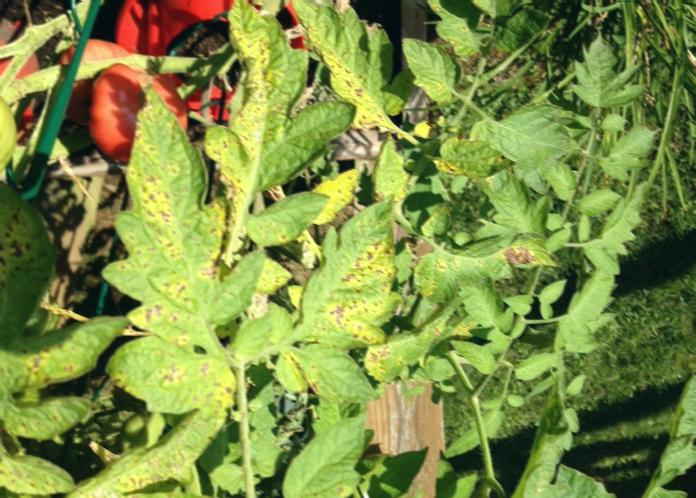Tomato Septoria leaf spot: (105, 93, 276, 418), (194, 19, 346, 208), (0, 150, 92, 453), (284, 0, 436, 133), (32, 416, 221, 498), (303, 199, 405, 350), (428, 130, 516, 189)
